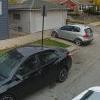Car: (50, 21, 100, 51)
